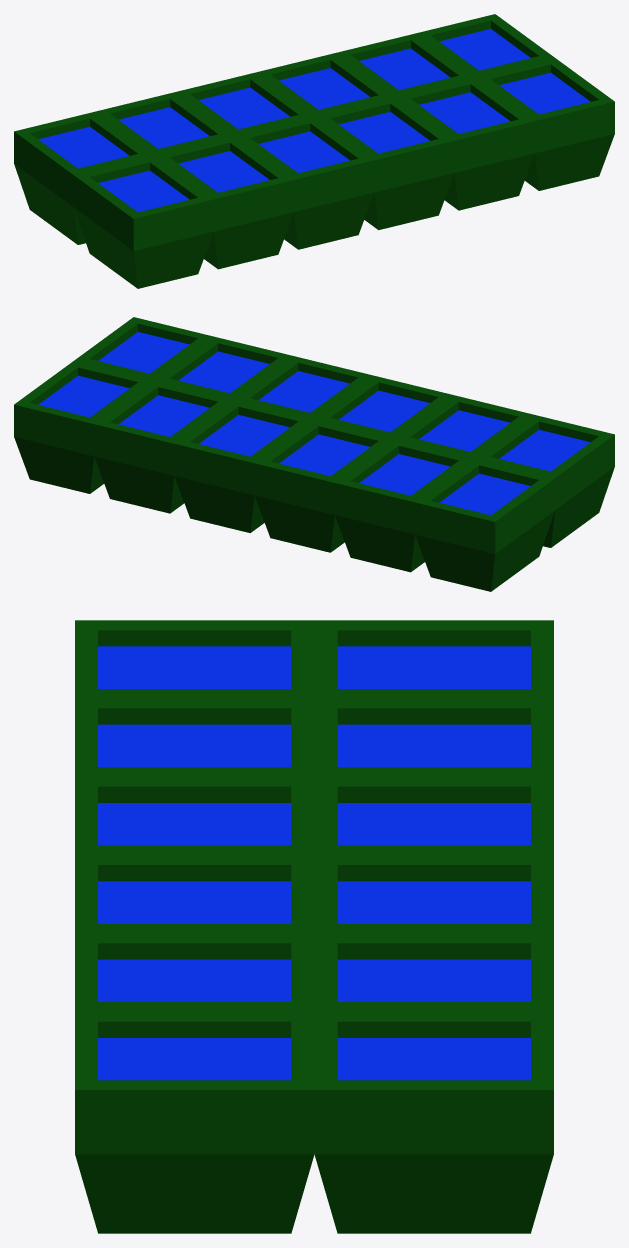
Rendered from House_Kitchen_Goodies_fridge_ice.FBX.
3 views of the same model, one above another, from view 1: azimuth 30°, elevation 25°; view 2: azimuth 150°, elevation 25°; view 3: azimuth 270°, elevation 25° (orthographic). The views are drawn at different scales.
Parts seen in each view (by area): view 1: House_Kitchen_Goodies_fridge_ice; view 2: House_Kitchen_Goodies_fridge_ice; view 3: House_Kitchen_Goodies_fridge_ice.
Part boxes in pixels (left/top/right/bottom): House_Kitchen_Goodies_fridge_ice: left=14, top=14, right=614, bottom=288; House_Kitchen_Goodies_fridge_ice: left=14, top=317, right=614, bottom=591; House_Kitchen_Goodies_fridge_ice: left=75, top=620, right=553, bottom=1233.
Size of the model in its own units: 120 by 18.25 by 51.71.
